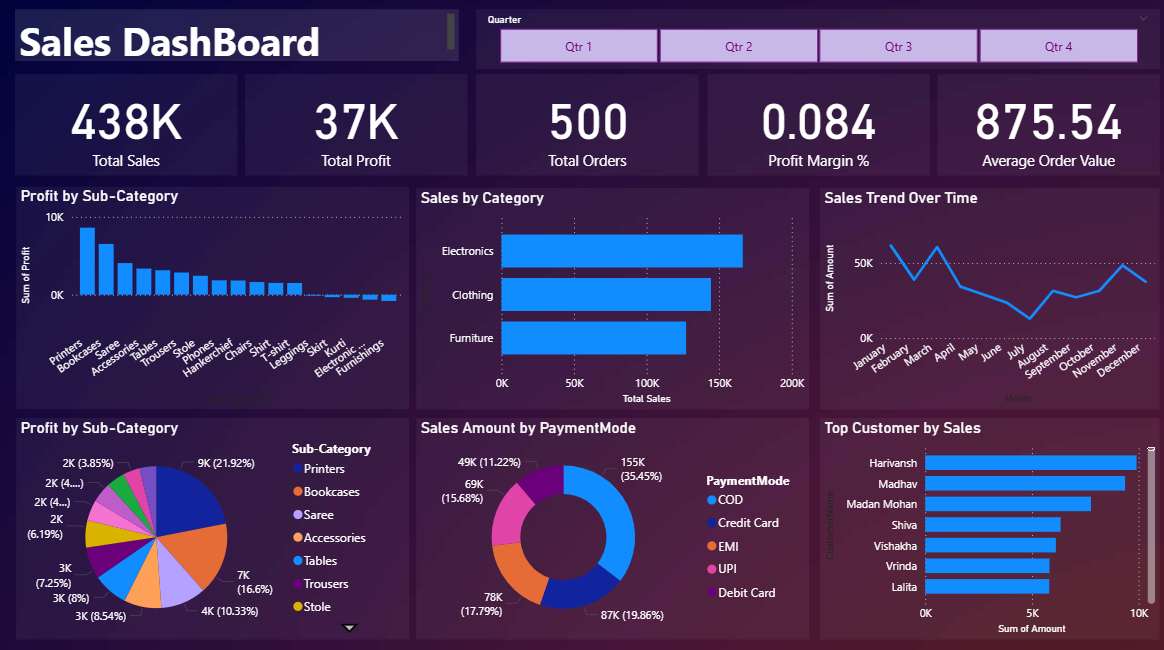

Layout of this report page (visuals, bound fields, positions):
{"tool":"powerbi","page":{"name":"Page 1","canvas":[1280,720],"ordinal":0},"visuals":[{"type":"columnChart","title":"Profit by Sub-Category","fields":{"Category":["Details.Sub-Category"],"Y":["Sum(Details.Profit)"]},"box":[17.8,207.2,430.9,244.3],"z":0},{"type":"textbox","box":[17.1,12.9,487.1,57.1],"z":1000},{"type":"barChart","title":"Sales by Category","fields":{"Category":["Details.Category"],"Y":["Details.Total Sales"]},"box":[457.1,208.6,431.4,242.9],"z":2000},{"type":"pieChart","title":"Profit by Sub-Category","fields":{"Y":["Sum(Details.Profit)"],"Category":["Details.Sub-Category"]},"box":[17.8,461.1,430.9,242.9],"z":3000},{"type":"card","fields":{"Values":["Details.Total Sales"]},"box":[16.5,83.7,244.3,111.1],"z":4000},{"type":"card","fields":{"Values":["Details.Total Profit"]},"box":[269,83.7,244.3,111.1],"z":5000},{"type":"card","fields":{"Values":["Details.Total Orders"]},"box":[522.8,83.7,244.3,111.1],"z":6000},{"type":"card","fields":{"Values":["Details.Profit Margin %"]},"box":[776.7,83.7,244.3,111.1],"z":7000},{"type":"card","fields":{"Values":["Details.Average Order Value"]},"box":[1029.2,83.7,244.3,111.1],"z":8000},{"type":"donutChart","title":"Sales Amount by PaymentMode","fields":{"Category":["Details.PaymentMode"],"Y":["Sum(Details.Amount)"]},"box":[457.1,461.4,431.4,242.9],"z":9000},{"type":"lineChart","title":"Sales Trend Over Time","fields":{"Category":["Orders.Order Date.Variation.Date Hierarchy.Month"],"Y":["Sum(Details.Amount)"]},"box":[900,208.6,372.9,242.9],"z":10000},{"type":"clusteredBarChart","title":"Top Customer by Sales","fields":{"Category":["Orders.CustomerName"],"Y":["Sum(Details.Amount)"]},"box":[900,461,373,243],"z":11000},{"type":"slicer","fields":{"Values":["Orders.Order Date.Variation.Date Hierarchy.Quarter"]},"box":[522.9,12.9,750,65.7],"z":12000}]}

Visuals, with their boxes in screenshot pixels (x1, y1, x2, y2), scaled from the page's 1280x720 canvas onto the 1164x650 screenshot:
"Profit by Sub-Category" columnChart: bbox=[16, 187, 408, 408]
textbox: bbox=[16, 12, 459, 63]
"Sales by Category" barChart: bbox=[416, 188, 808, 408]
"Profit by Sub-Category" pieChart: bbox=[16, 416, 408, 636]
card - Details.Total Sales: bbox=[15, 76, 237, 176]
card - Details.Total Profit: bbox=[245, 76, 467, 176]
card - Details.Total Orders: bbox=[475, 76, 698, 176]
card - Details.Profit Margin %: bbox=[706, 76, 928, 176]
card - Details.Average Order Value: bbox=[936, 76, 1158, 176]
"Sales Amount by PaymentMode" donutChart: bbox=[416, 417, 808, 636]
"Sales Trend Over Time" lineChart: bbox=[818, 188, 1158, 408]
"Top Customer by Sales" clusteredBarChart: bbox=[818, 416, 1158, 636]
slicer - Orders.Order Date.Variation.Date Hierarchy.Quarter: bbox=[476, 12, 1158, 71]
